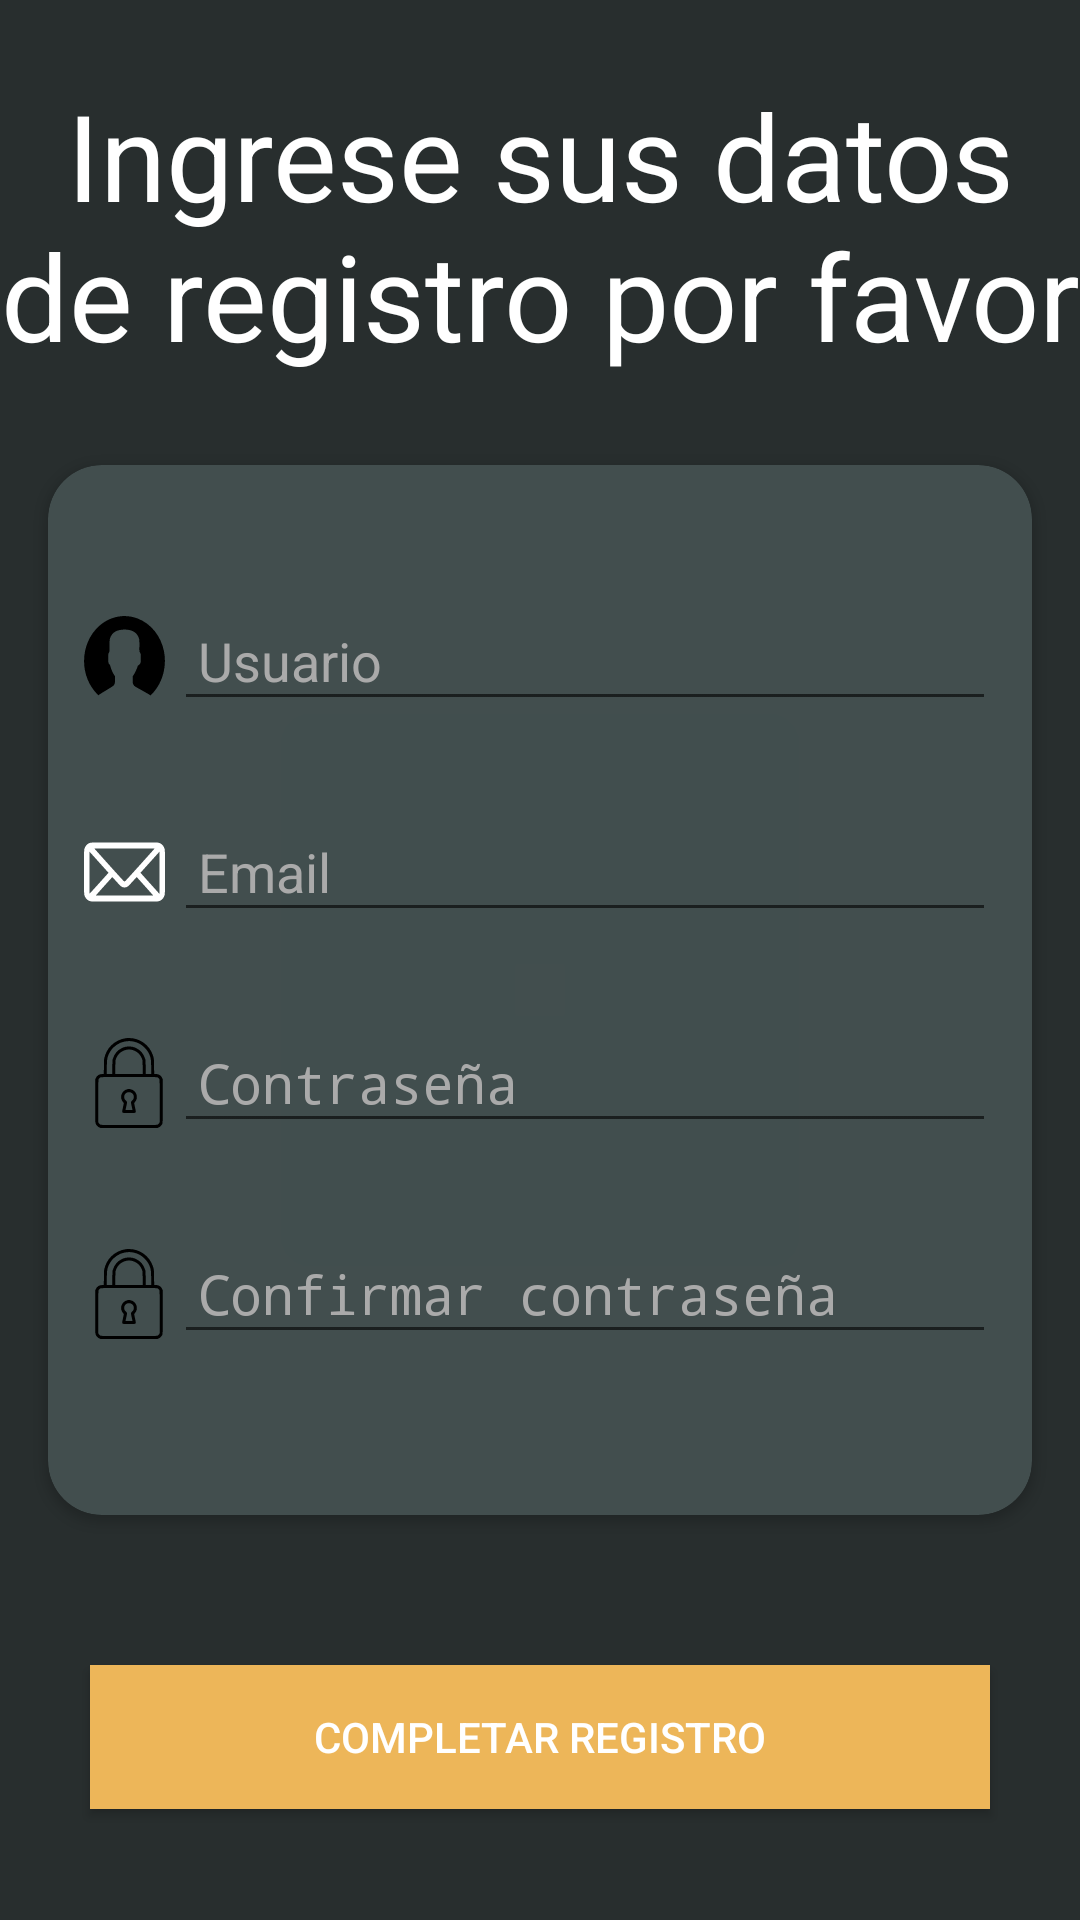

Where icons sit on this 1080x1920 app screen, as bbox=(x1, y1, x2, y2):
password: bbox=(95, 1038, 163, 1128), bbox=(95, 1249, 163, 1339)
perfil: bbox=(84, 616, 165, 695)
